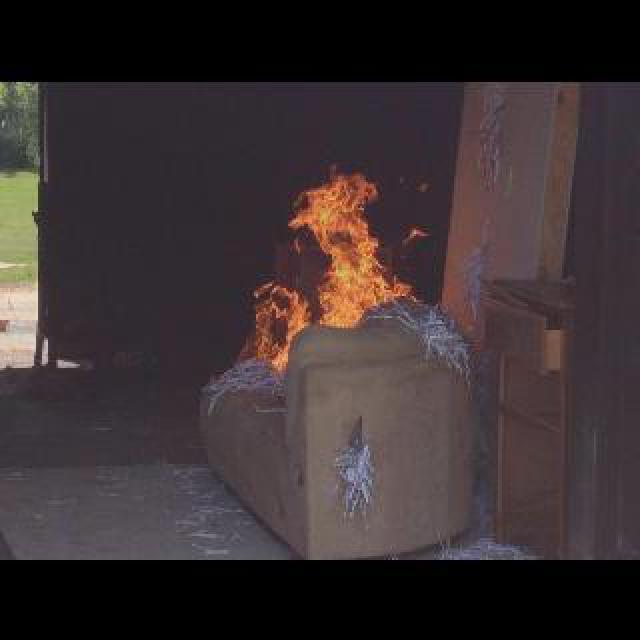Fire: (294, 160, 420, 330), (232, 272, 312, 374)
